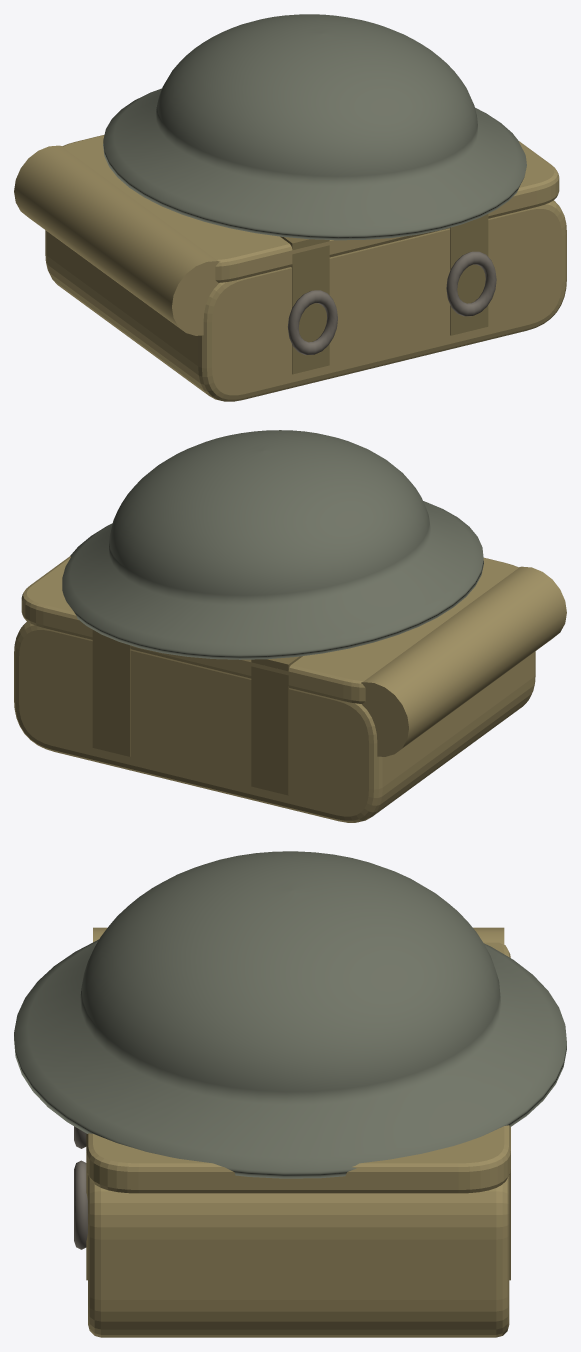
The model's file is ch6-piece-helmet-pack.glb.
3 views of the same model, one above another, from view 1: azimuth 30°, elevation 25°; view 2: azimuth 150°, elevation 25°; view 3: azimuth 270°, elevation 25° (orthographic). The views are drawn at different scales.
Visible parts, largest first — view 1: helmet_shell, pack_body, pack_roll, pack_flap, strap_front (×2), strap_buckle (×2); view 2: helmet_shell, pack_body, pack_roll, pack_flap, strap_back (×2); view 3: helmet_shell, pack_body, pack_flap, strap_buckle.
Part boxes in pixels (x1,y1,x2,y2): helmet_shell: [103, 14, 526, 240]; pack_body: [45, 200, 566, 401]; pack_roll: [14, 145, 219, 335]; pack_flap: [62, 134, 559, 282]; strap_front (×2): [291, 214, 488, 374]; strap_buckle (×2): [287, 251, 496, 355]; helmet_shell: [62, 430, 483, 659]; pack_body: [14, 621, 535, 822]; pack_roll: [361, 566, 566, 756]; pack_flap: [21, 556, 518, 703]; strap_back (×2): [92, 630, 289, 795]; helmet_shell: [14, 851, 566, 1178]; pack_body: [88, 1175, 509, 1337]; pack_flap: [86, 942, 510, 1193]; strap_buckle: [74, 1160, 87, 1249].
Size of the model in its own units: 0.368 by 0.2403 by 0.336.
